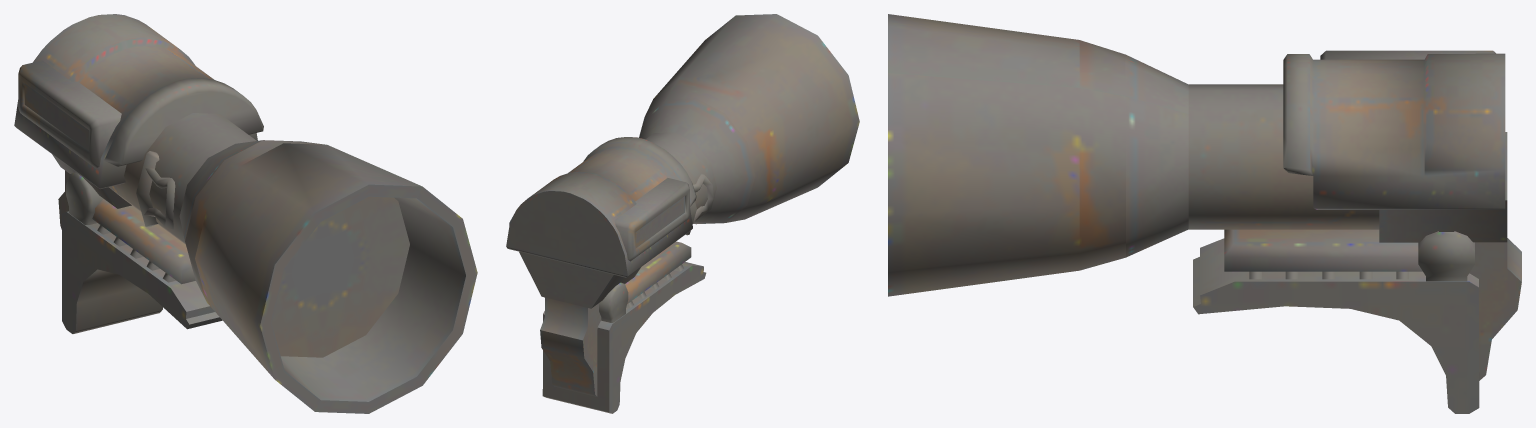
The model's file is stock5.obj.
3 renders of one model, left to right at view 1: azimuth 30°, elevation 25°; view 2: azimuth 150°, elevation 25°; view 3: azimuth 270°, elevation 25°, orthographic. The views are drawn at different scales.
Parts seen in each view (by area): view 1: stock5; view 2: stock5; view 3: stock5.
Part boxes in pixels (box(x1,y1,x2,y2)): stock5: box(14, 14, 477, 413); stock5: box(506, 14, 859, 413); stock5: box(888, 14, 1521, 413).
Bounding box in the file's own units: 19.76 × 28.12 × 44.4.
